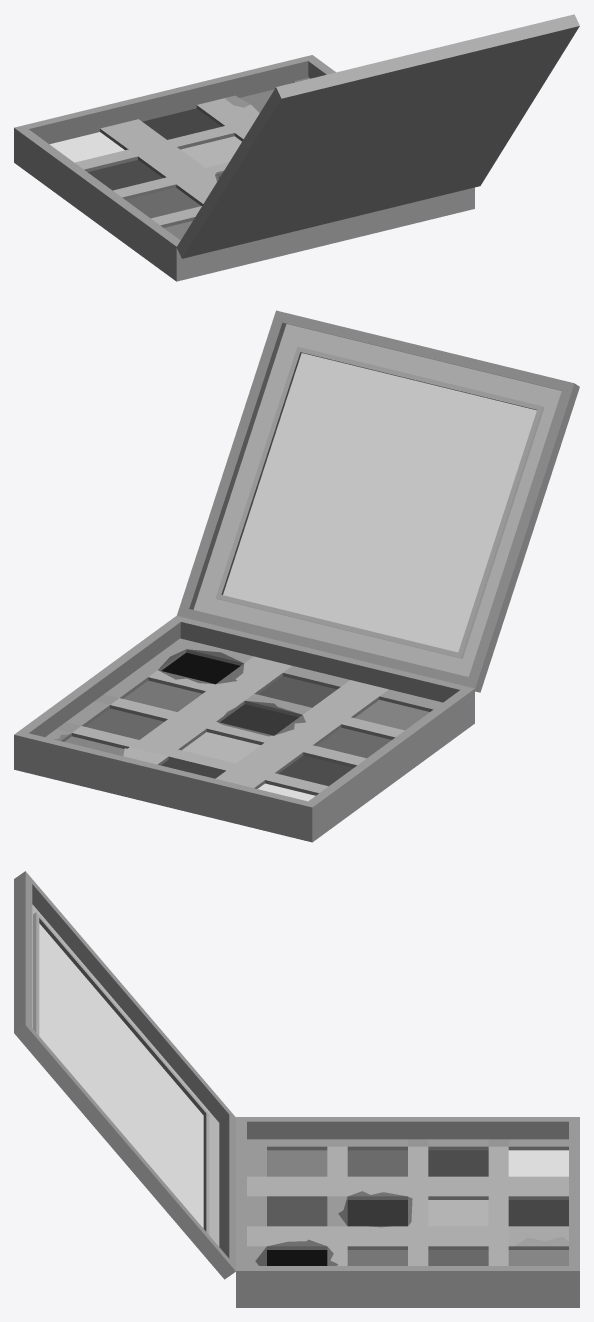
File: MakeupPalette.fbx
The picture shows the model from 3 angles, top to bottom: view 1: azimuth 30°, elevation 25°; view 2: azimuth 150°, elevation 25°; view 3: azimuth 270°, elevation 25°; orthographic projection. The views are drawn at different scales.
Visible parts, largest first — view 1: MakeupPalette; view 2: MakeupPalette; view 3: MakeupPalette.
Part boxes in pixels (left/top/right/bottom): MakeupPalette: left=14, top=14, right=579, bottom=281; MakeupPalette: left=14, top=310, right=579, bottom=842; MakeupPalette: left=14, top=871, right=579, bottom=1307.
Size of the model in its own units: 45.36 by 38.84 by 70.43.
